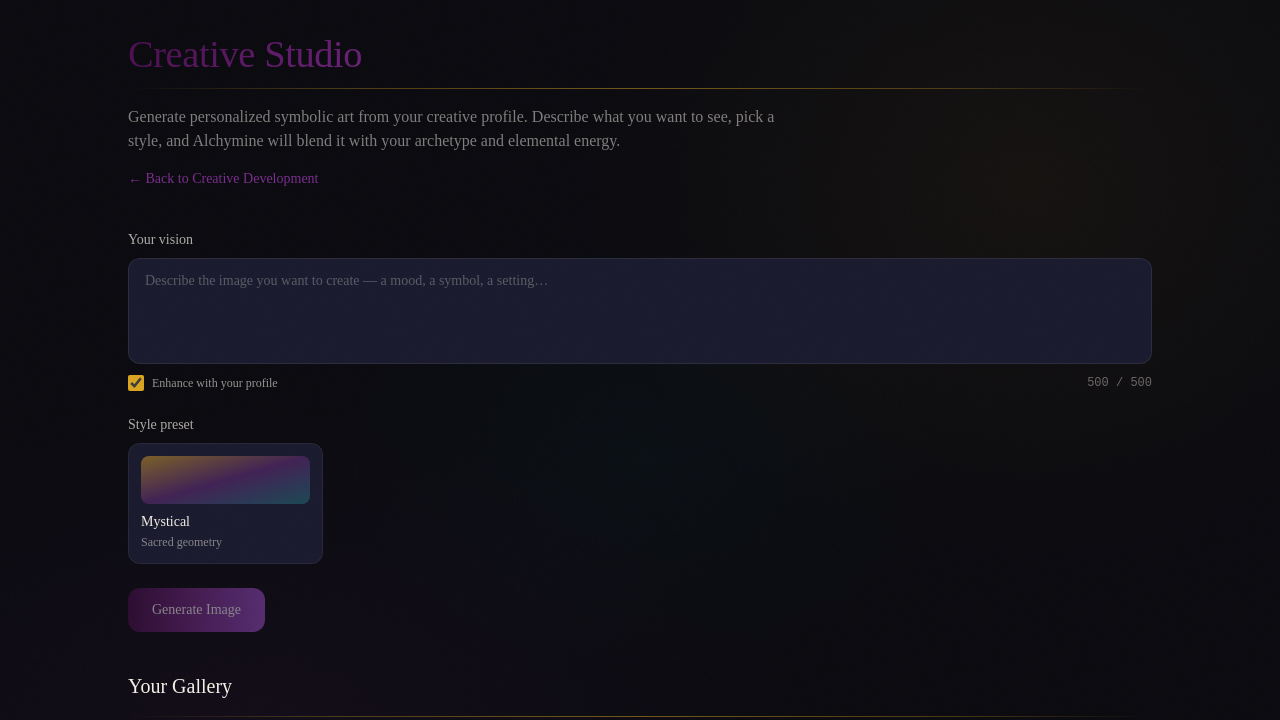
Test: CreativeStudioPage daily cap › still shows a real error banner for genuine failures
The width and height of the screenshot is (1280, 720).
Replace the text in the text box labelled "Your vision" with "a quiet forest": (640, 311) [128,258,1152,364]
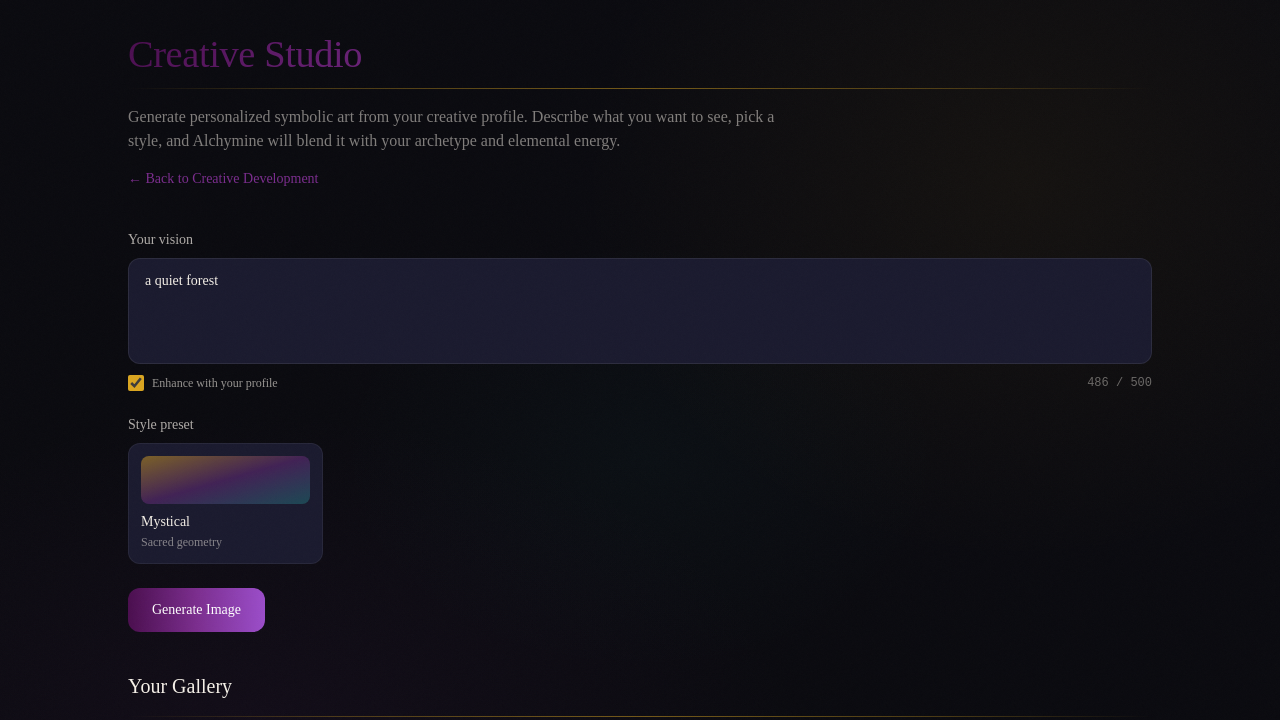
Click the button "Generate Image": (196, 610) [128,588,265,632]
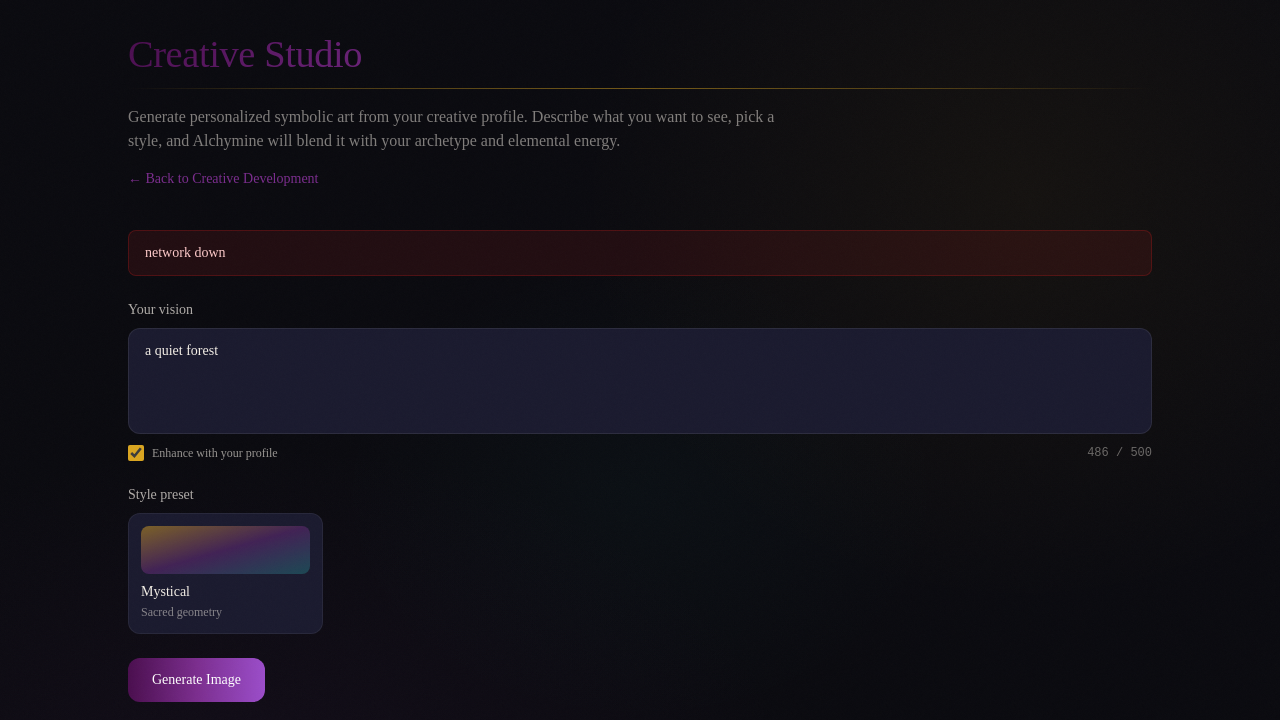
Expected: the message reads "network down", [145,245,226,260]
